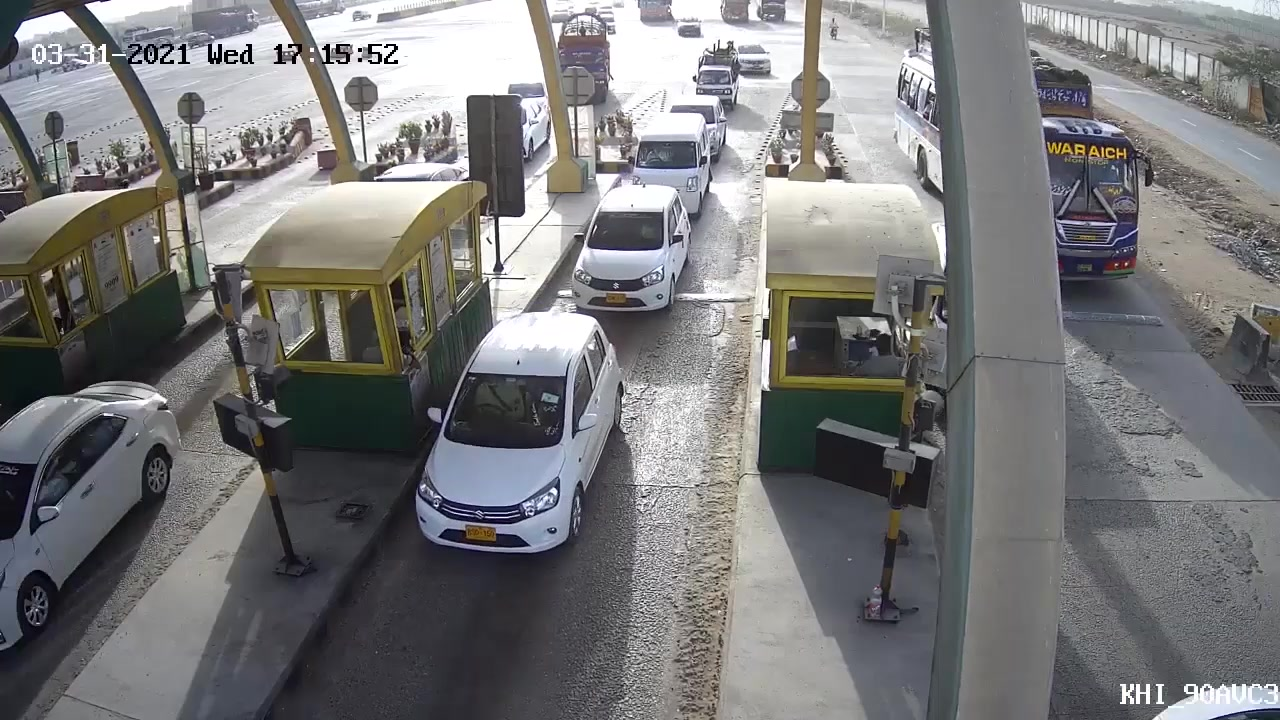F1: (392, 311, 620, 561), (564, 185, 692, 315)
